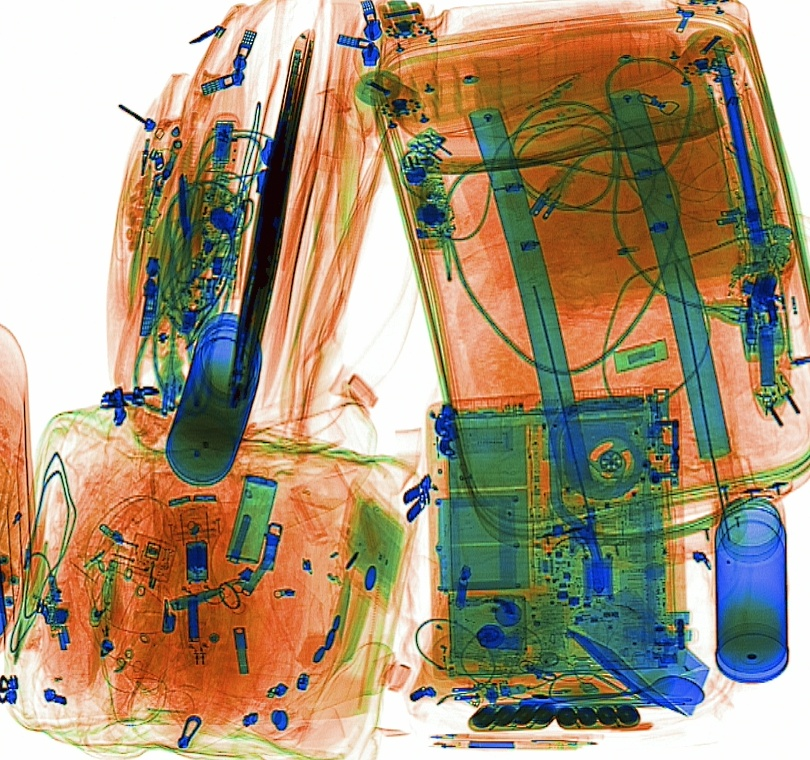powerbank: (552, 699, 655, 736), (465, 700, 558, 735)
